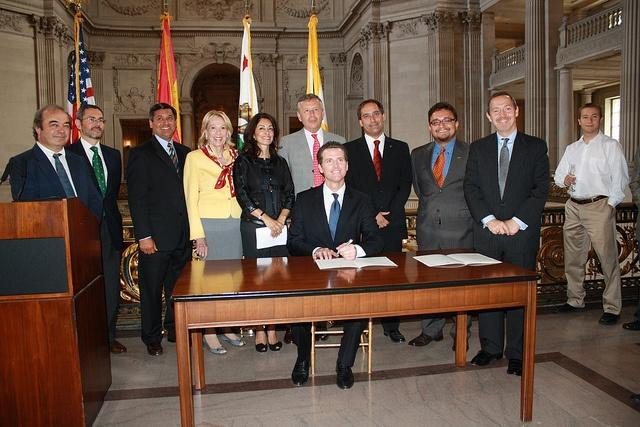Meja: (170, 247, 541, 426)
